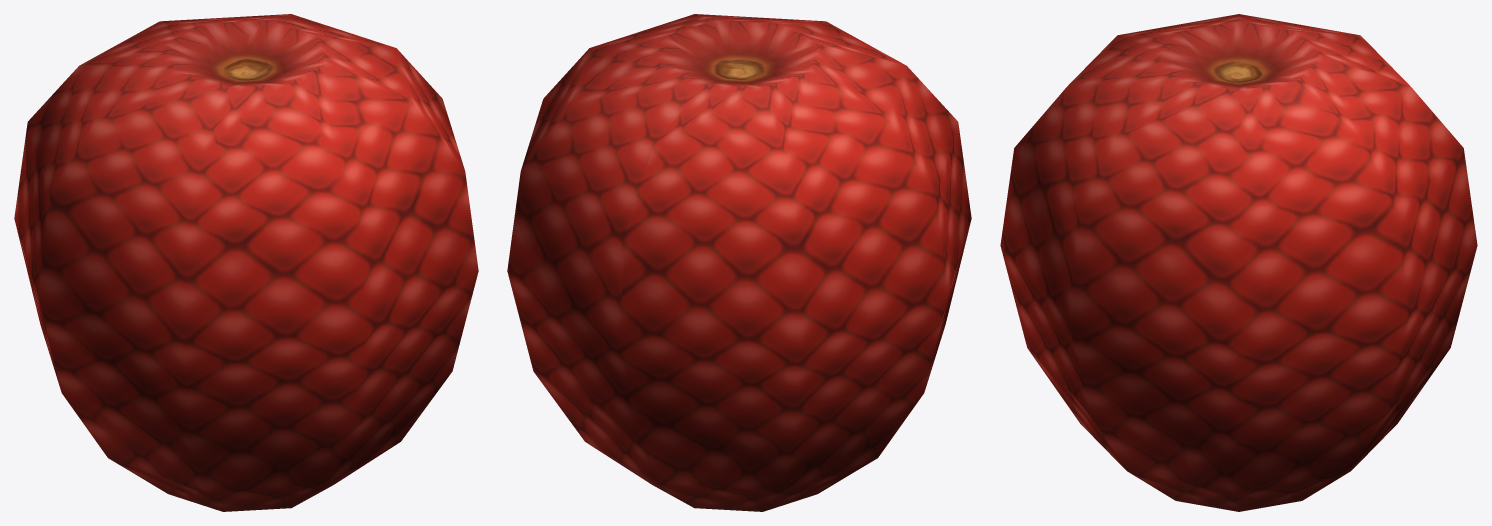
Rendered from Lychee.fbx.
3 views of the same model, side by side, from view 1: azimuth 30°, elevation 25°; view 2: azimuth 150°, elevation 25°; view 3: azimuth 270°, elevation 25° (orthographic).
Parts seen in each view (by area): view 1: Lychee; view 2: Lychee; view 3: Lychee.
Boxes of the visible parts, x1=… form: Lychee: x1=14, y1=14, x2=478, y2=511; Lychee: x1=507, y1=14, x2=971, y2=511; Lychee: x1=1000, y1=14, x2=1477, y2=511.
Size of the model in its own units: 23.5 by 23.66 by 23.5.
